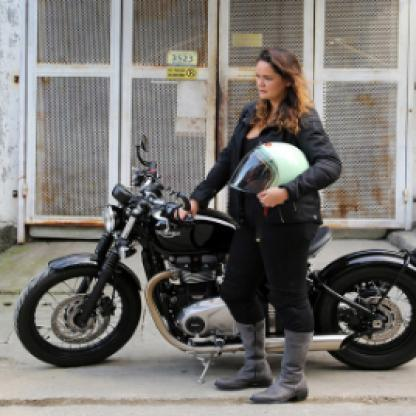helmet: (228, 141, 312, 195)
nohelmet: (256, 48, 299, 102)
